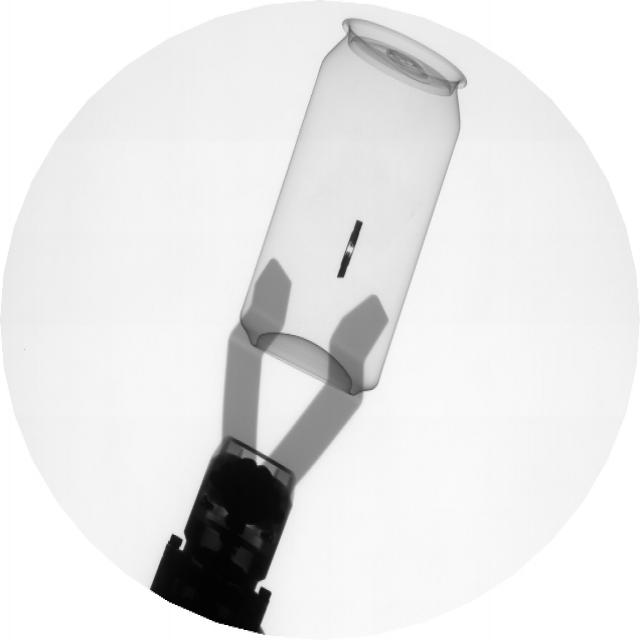BLADE: (336, 211, 371, 285)
